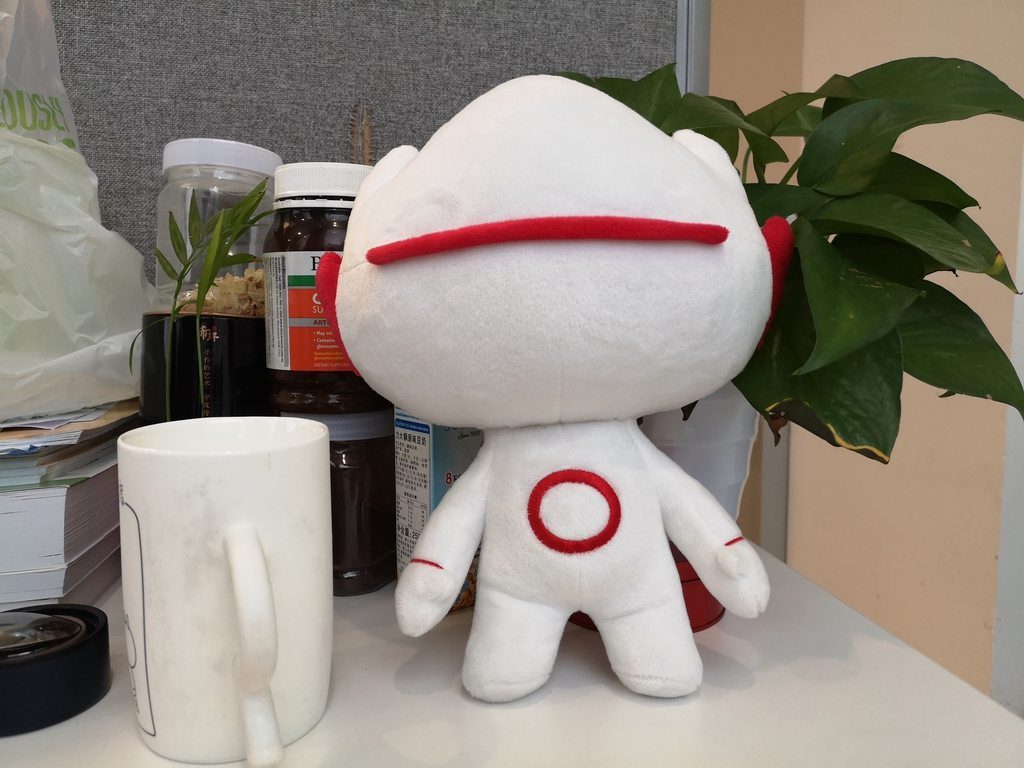yunbao: (317, 43, 817, 718)
